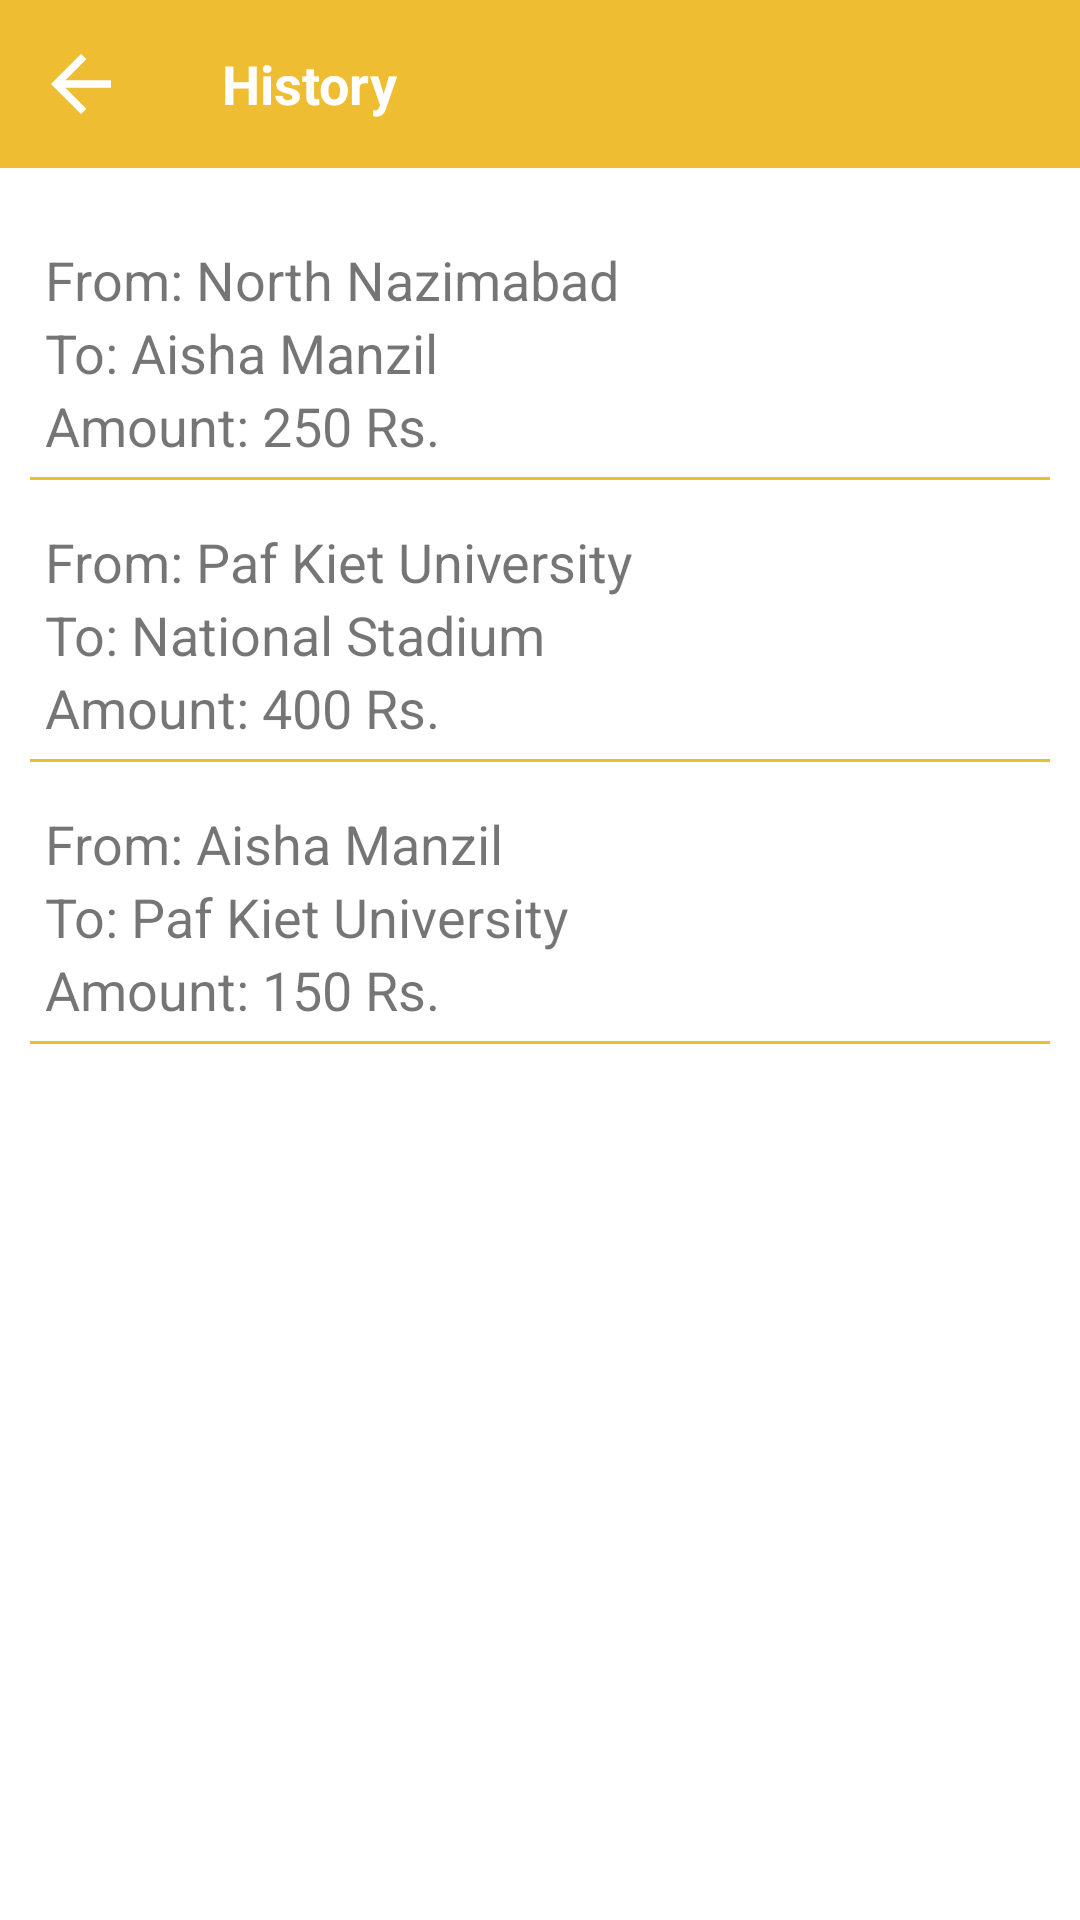

Icons on this 1080*1920 Android screen, each with its box as bbox=[x1, y1, x2, y2]:
arrow back: bbox=[51, 54, 111, 114]
